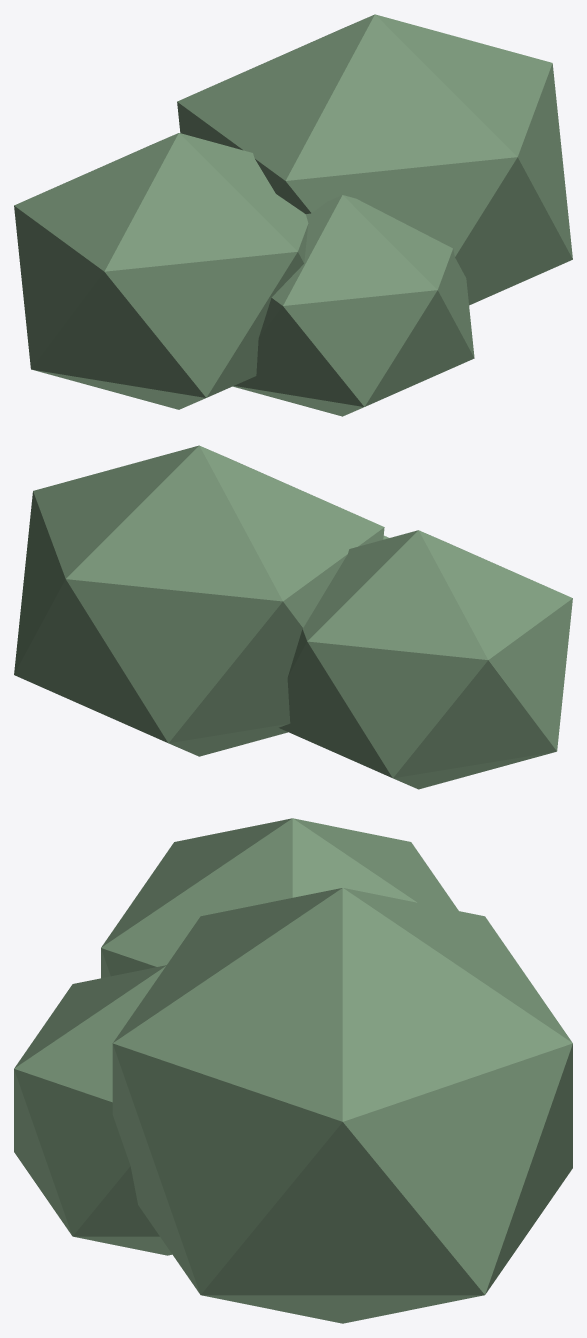
The model's file is SM_Shrub.fbx.
3 views of the same model, one above another, from view 1: azimuth 30°, elevation 25°; view 2: azimuth 150°, elevation 25°; view 3: azimuth 270°, elevation 25° (orthographic). The views are drawn at different scales.
Parts seen in each view (by area): view 1: SM_Shrub; view 2: SM_Shrub; view 3: SM_Shrub.
Part boxes in pixels (<box>): SM_Shrub: <box>14,14,572,416</box>; SM_Shrub: <box>14,445,572,789</box>; SM_Shrub: <box>14,818,572,1323</box>.
Bounding box in the file's own units: 163 × 112 × 96.
